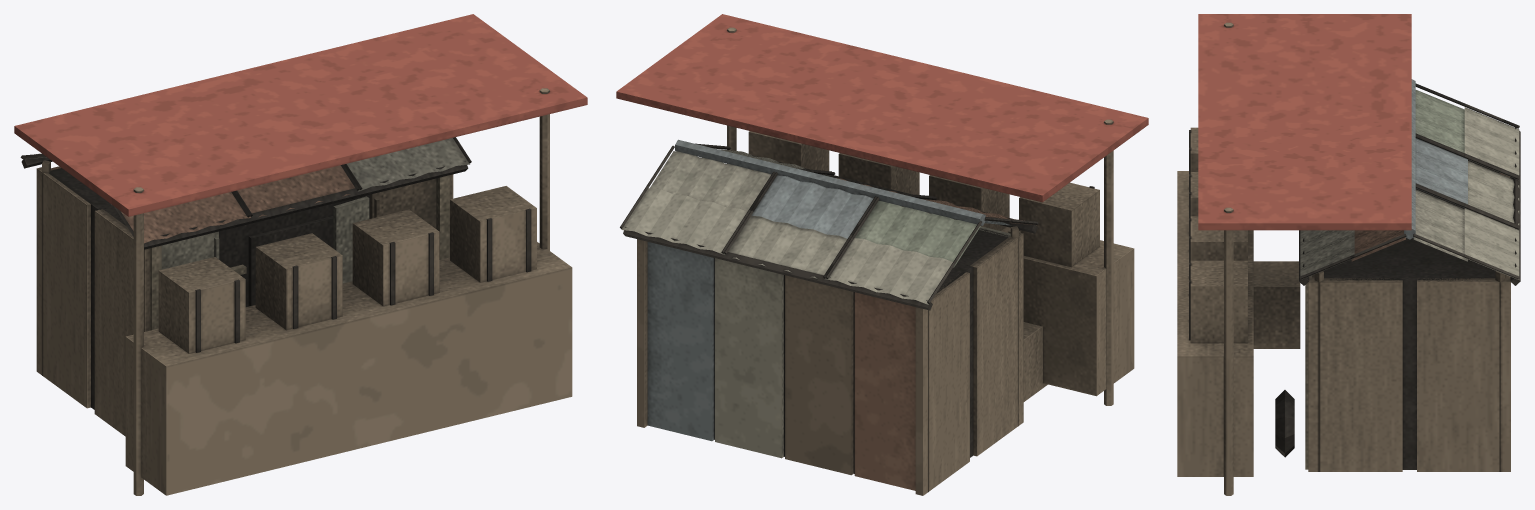
The model's file is Market.fbx.
3 renders of one model, left to right at view 1: azimuth 30°, elevation 25°; view 2: azimuth 150°, elevation 25°; view 3: azimuth 270°, elevation 25°, orthographic. The views are drawn at different scales.
Parts seen in each view (by area): view 1: Market; view 2: Market; view 3: Market.
Boxes of the visible parts, left/top/right/bottom form: Market: left=14, top=14, right=587, bottom=495; Market: left=616, top=14, right=1148, bottom=495; Market: left=1177, top=14, right=1520, bottom=495.
Size of the model in its own units: 2.6 by 1.65 by 1.8.
Materials: 1 (1 with a texture image).
